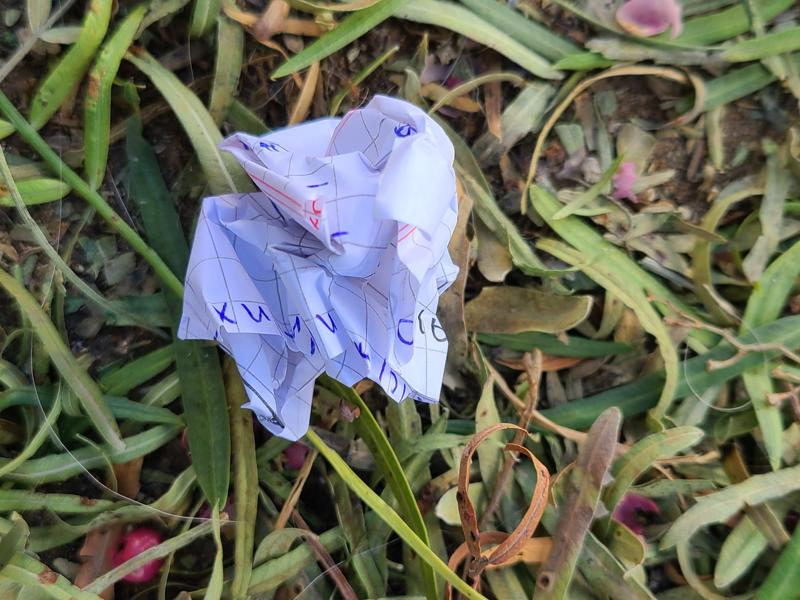papel: (176, 95, 503, 445)
